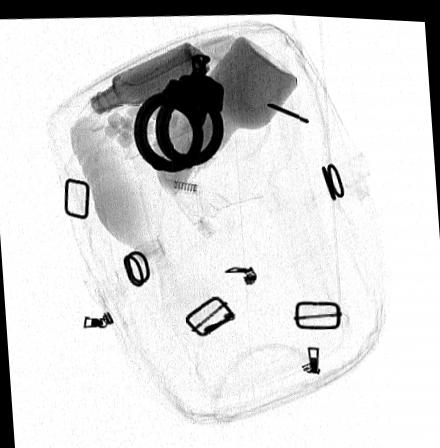HandCuffs: (132, 51, 223, 172)
